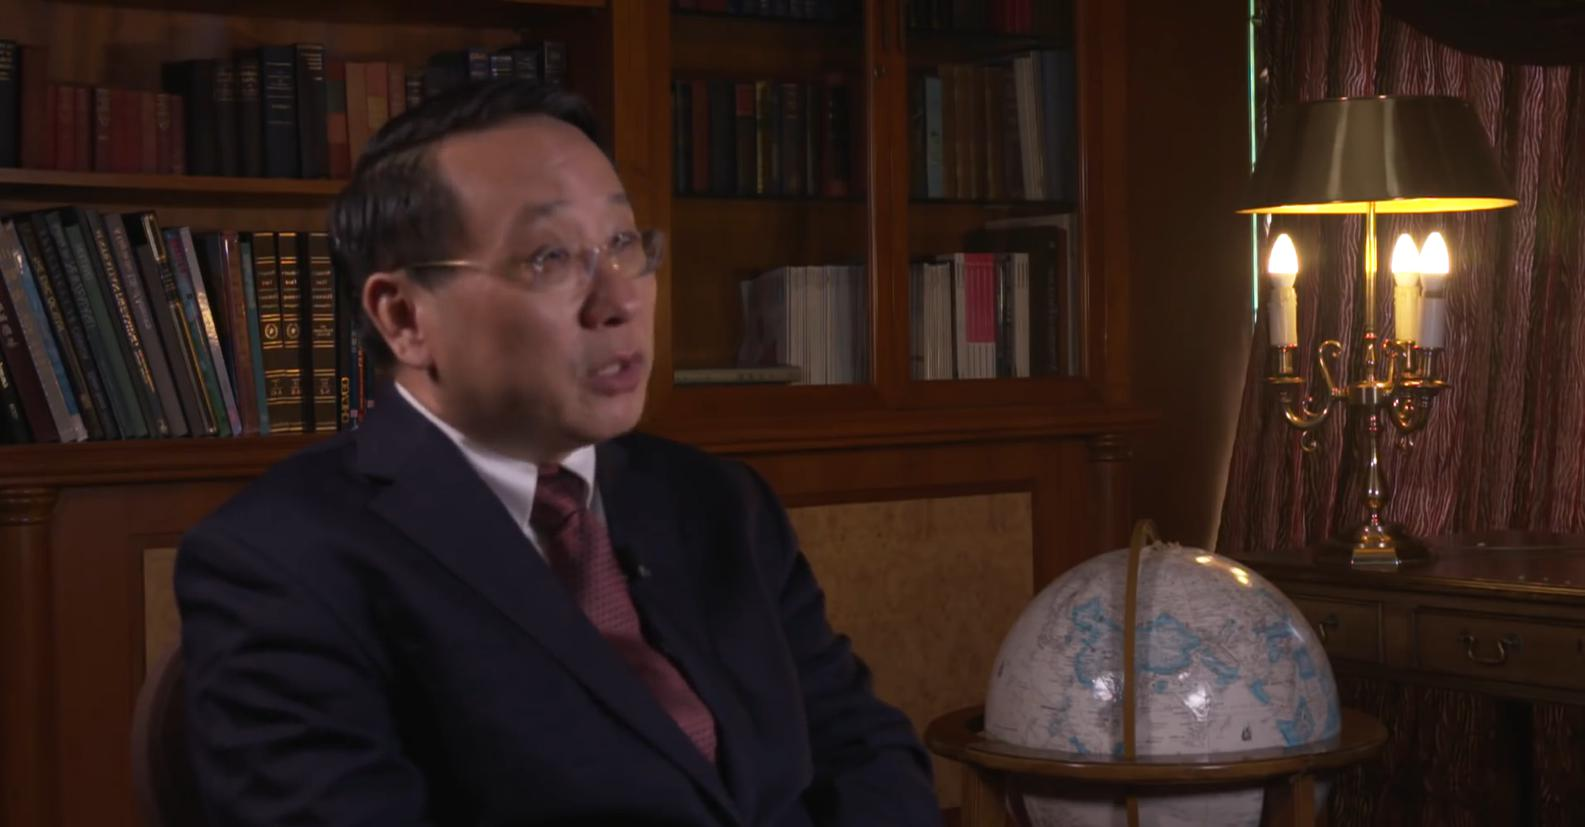without_mask: (470, 189, 625, 413)
